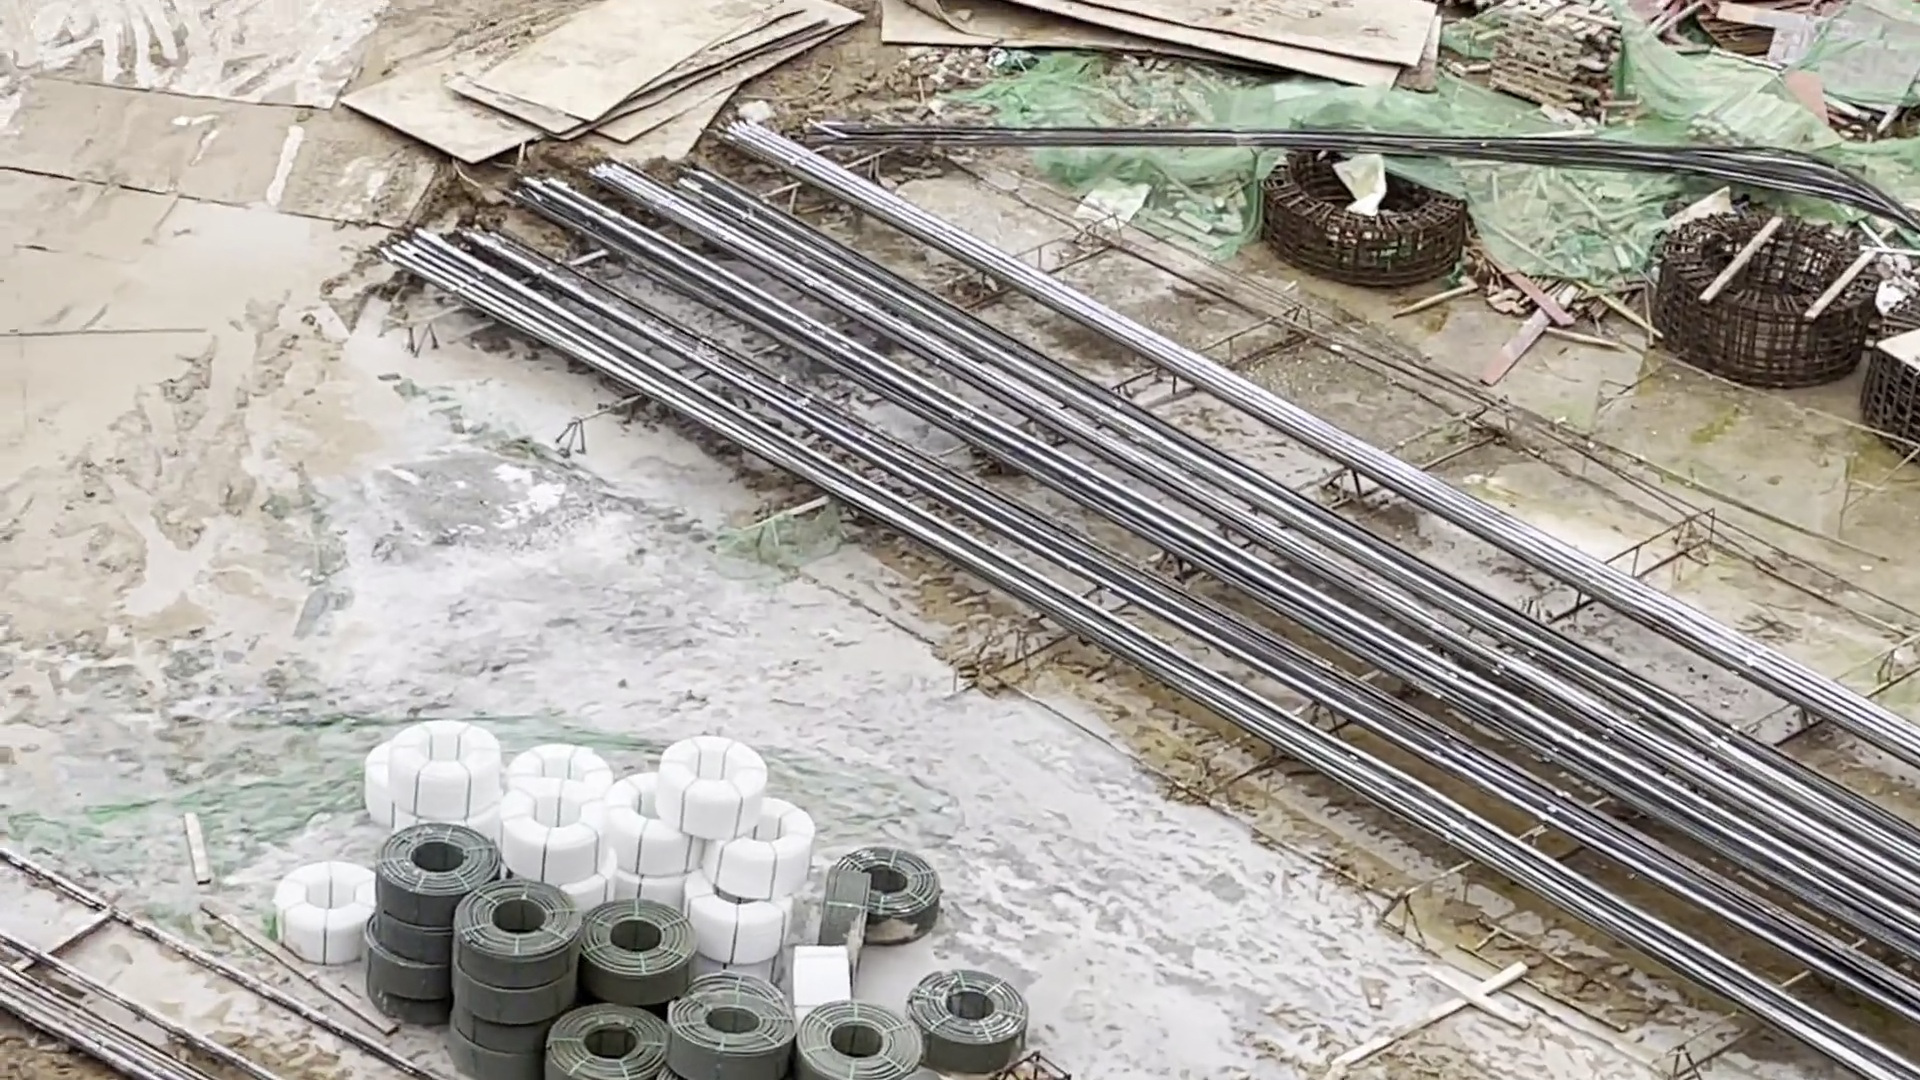board: (430, 20, 855, 120)
rebar: (1193, 512, 1920, 993), (555, 185, 1174, 568)
